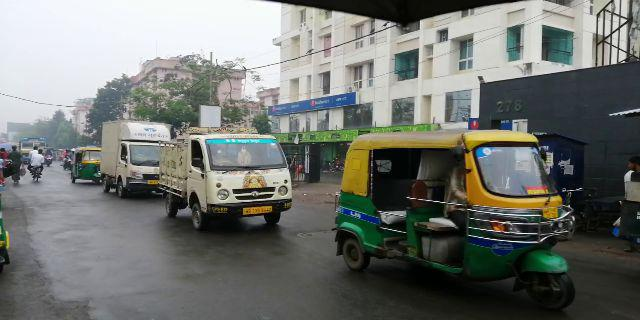Autorickshaw: (333, 132, 575, 291), (68, 144, 101, 186)
Minitruck: (168, 127, 294, 228), (101, 120, 170, 196)
